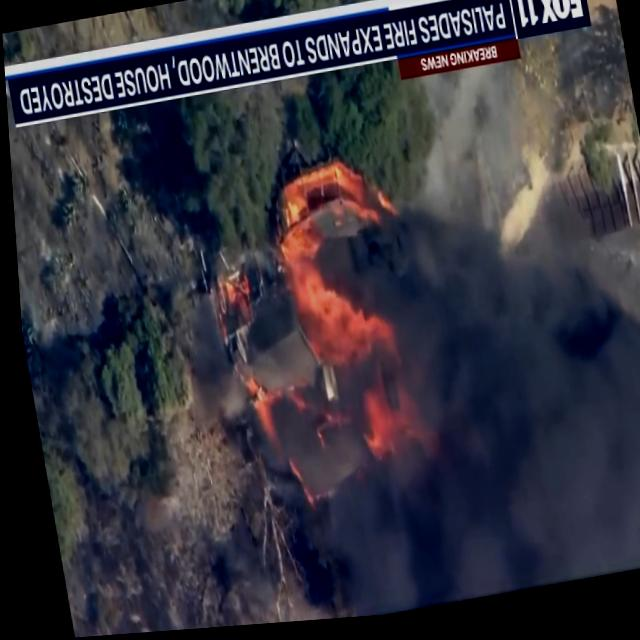no_helmet: (374, 216, 635, 592)
